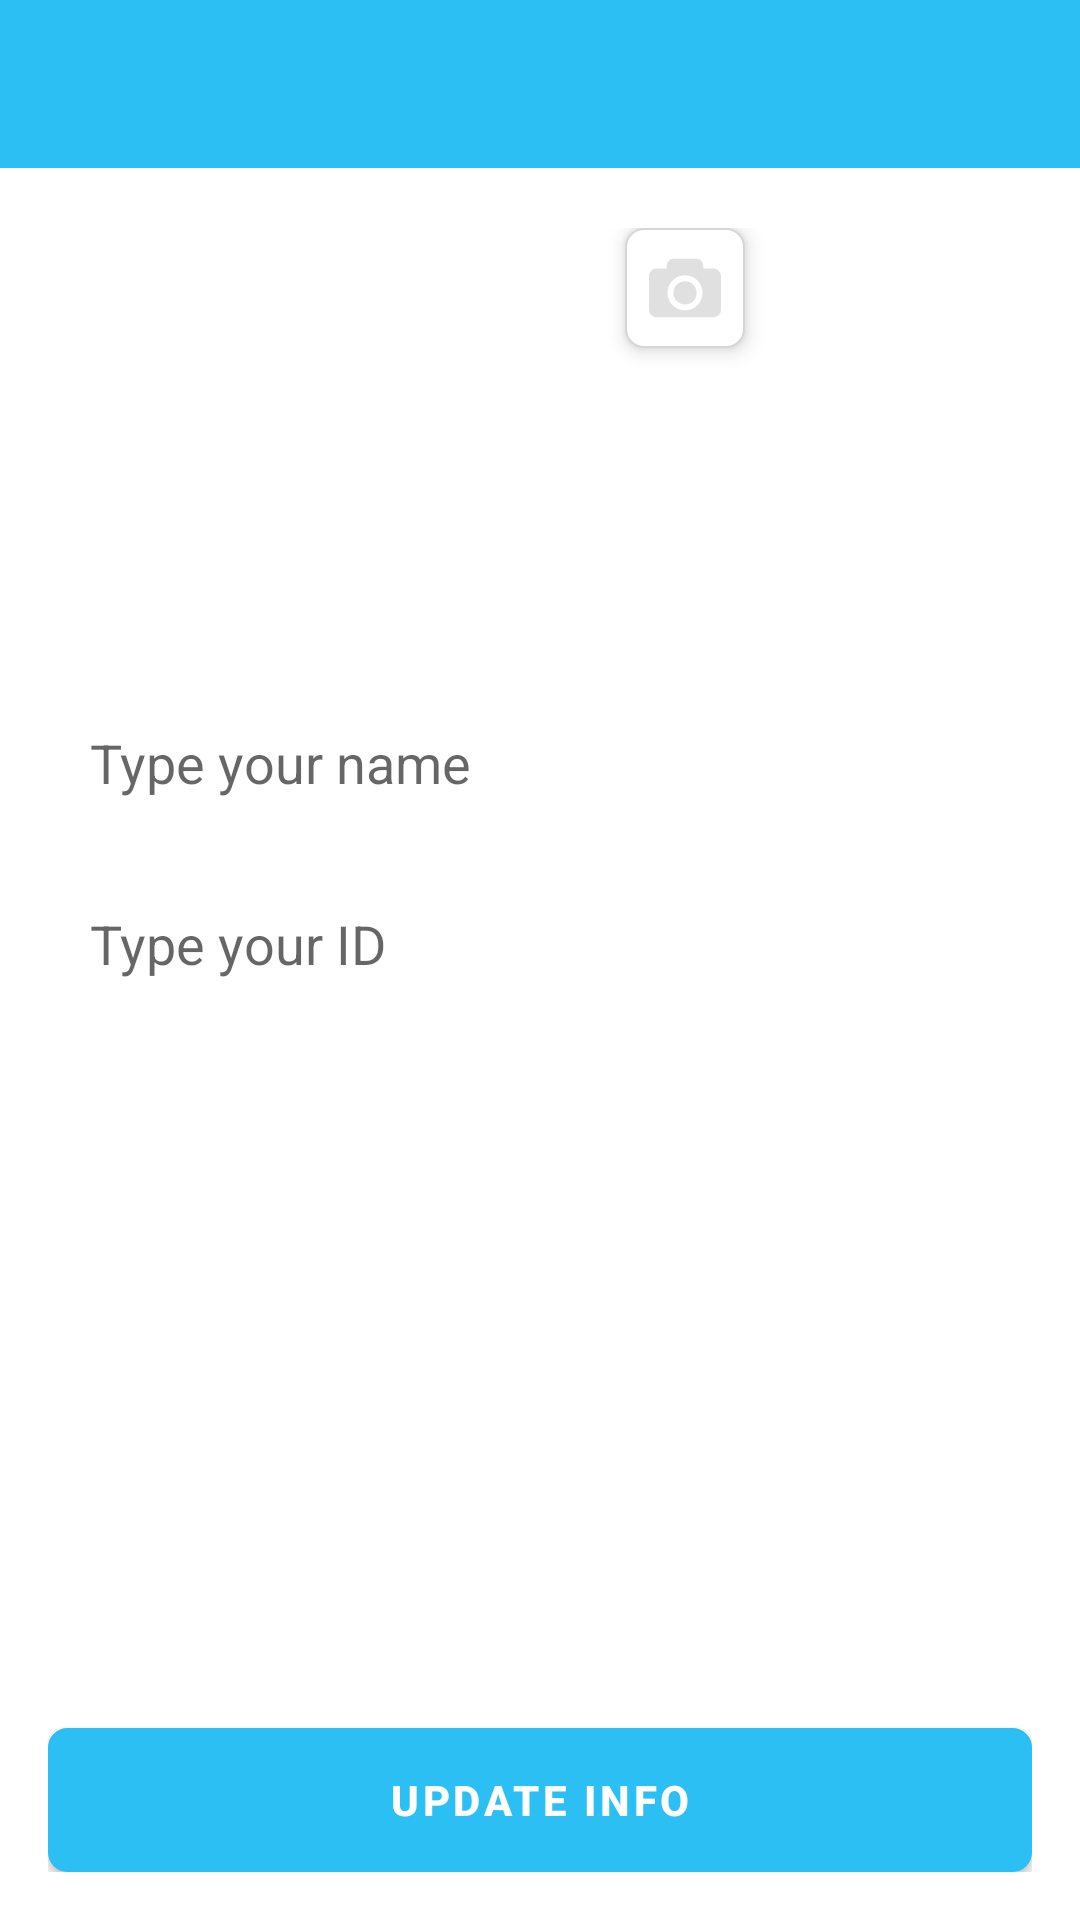

Icon bounding boxes for this 1080w x 1920h phone screenshot, format (x1, y1, x2, y2):
camera: (625, 228, 745, 348)
